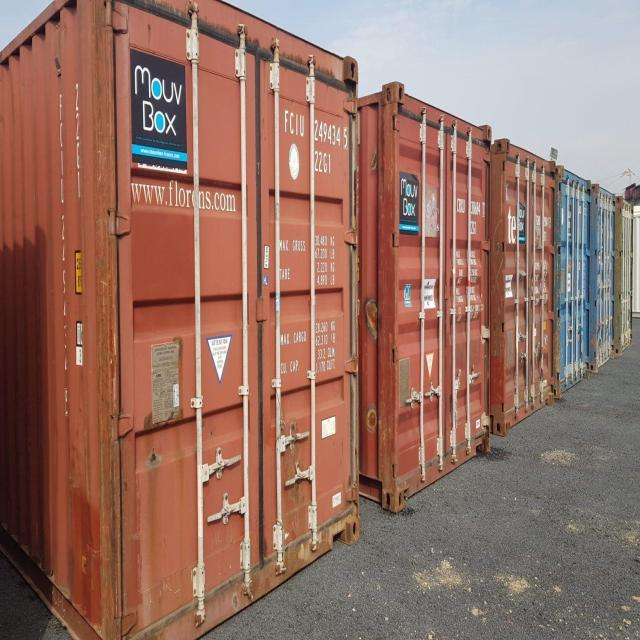ISO: (312, 146, 332, 174)
container_number: (284, 111, 350, 141)
